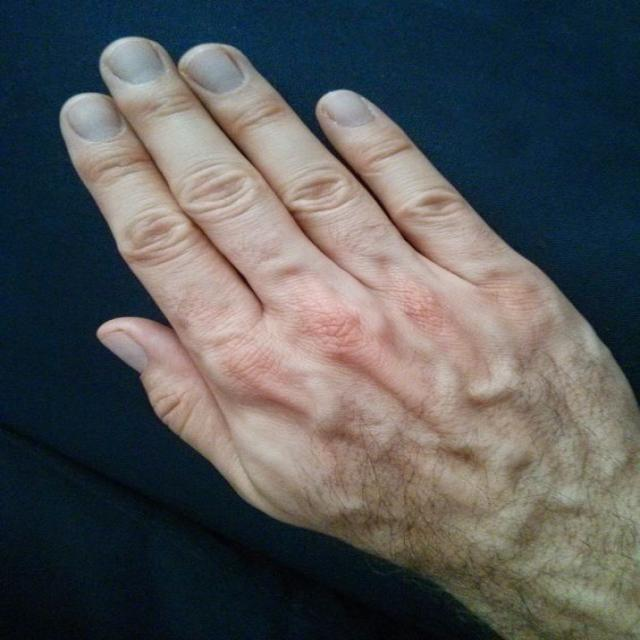Fingernail: (186, 48, 245, 94), (106, 41, 164, 85), (68, 95, 122, 142), (100, 331, 147, 374), (324, 91, 374, 127)
